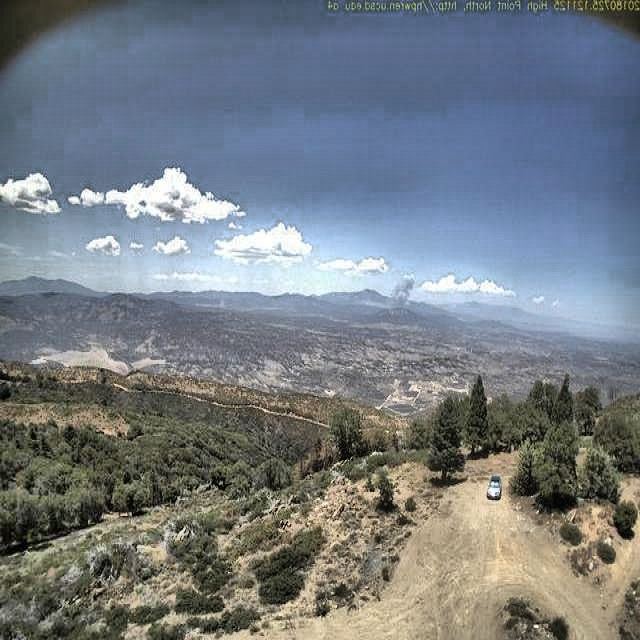smoke: (383, 271, 420, 316)
